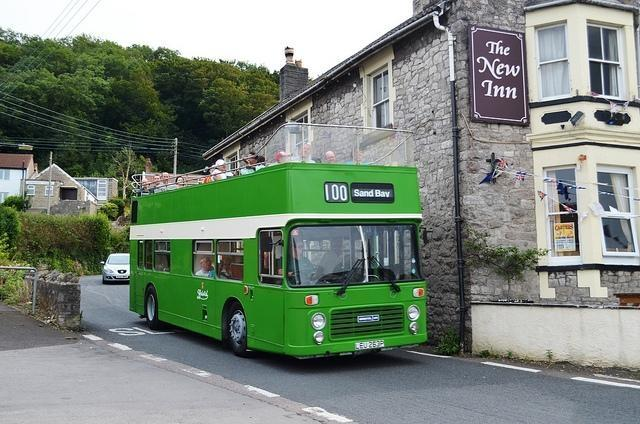bus: (129, 124, 427, 358)
car: (100, 253, 130, 283)
